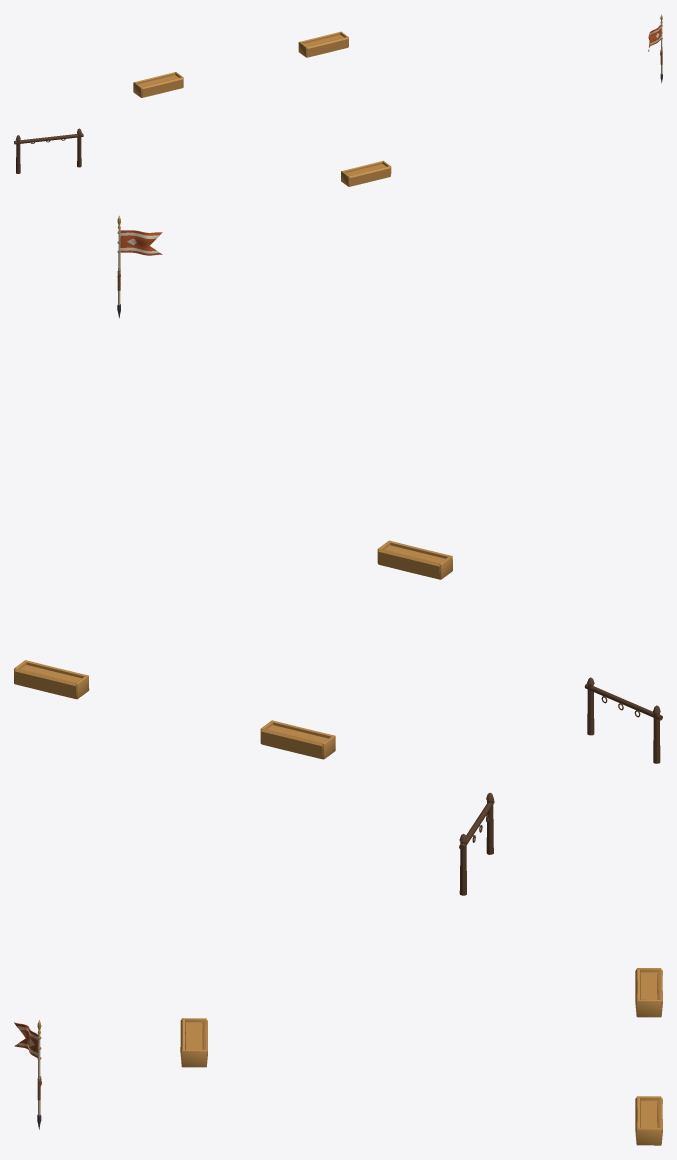
File: nomad_animal_keep_decor.fbx
3 renders of one model, top to bottom at view 1: azimuth 30°, elevation 25°; view 2: azimuth 150°, elevation 25°; view 3: azimuth 270°, elevation 25°, orthographic. The views are drawn at different scales.
Parts seen in each view (by area): view 1: C__HitchingPost__01, C__HitchingPost__02, C__HitchingPost__03, C__HitchingPost__04, C__Tool_SignalFlag__01; view 2: C__HitchingPost__02, C__HitchingPost__03, C__HitchingPost__01, C__HitchingPost__04, C__Tool_SignalFlag__01; view 3: C__HitchingPost__03, C__HitchingPost__01, C__HitchingPost__02, C__HitchingPost__04, C__Tool_SignalFlag__01.
Boxes of the visible parts, x1,y1,x2,y2 form: C__HitchingPost__01: [298, 31, 348, 57]; C__HitchingPost__02: [133, 72, 183, 97]; C__HitchingPost__03: [341, 160, 391, 186]; C__HitchingPost__04: [14, 128, 83, 173]; C__Tool_SignalFlag__01: [648, 14, 662, 83]; C__HitchingPost__02: [260, 720, 335, 759]; C__HitchingPost__03: [377, 540, 452, 579]; C__HitchingPost__01: [14, 660, 89, 699]; C__HitchingPost__04: [584, 677, 662, 763]; C__Tool_SignalFlag__01: [117, 215, 162, 318]; C__HitchingPost__03: [180, 1018, 207, 1067]; C__HitchingPost__01: [635, 1096, 662, 1145]; C__HitchingPost__02: [635, 968, 662, 1017]; C__HitchingPost__04: [459, 792, 494, 895]; C__Tool_SignalFlag__01: [14, 1020, 41, 1129].
Size of the model in its own units: 3289 by 872 by 2294.
